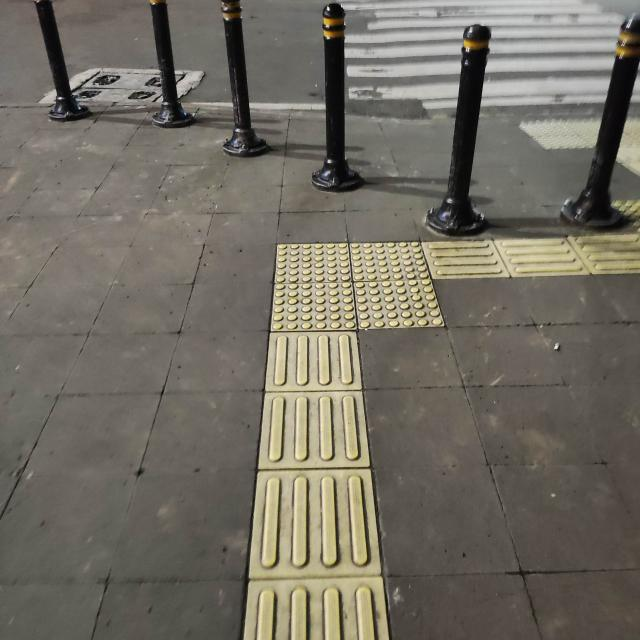kanan: (228, 208, 580, 378)
